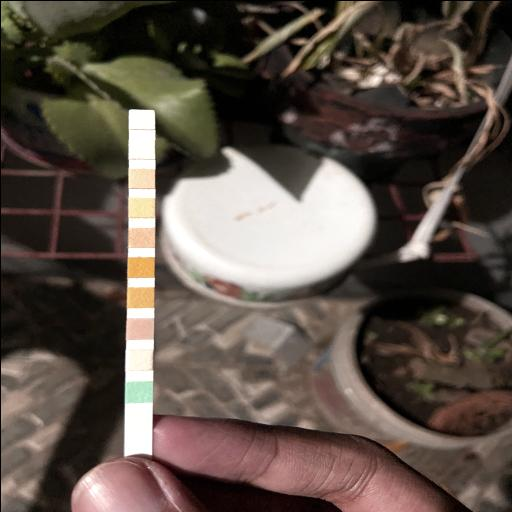Bilirubin: (126, 348, 150, 368)
Blood: (128, 258, 152, 276)
Glucose: (126, 380, 150, 402)
Ketone: (126, 318, 152, 338)
Leukocytes: (129, 110, 153, 130)
Nitrite: (128, 140, 154, 158)
Protein: (129, 196, 153, 216)
SpGravity: (126, 287, 152, 306)
Urobilinogen: (128, 170, 152, 186)
pH: (129, 227, 153, 246)
strip: (123, 109, 154, 453)
